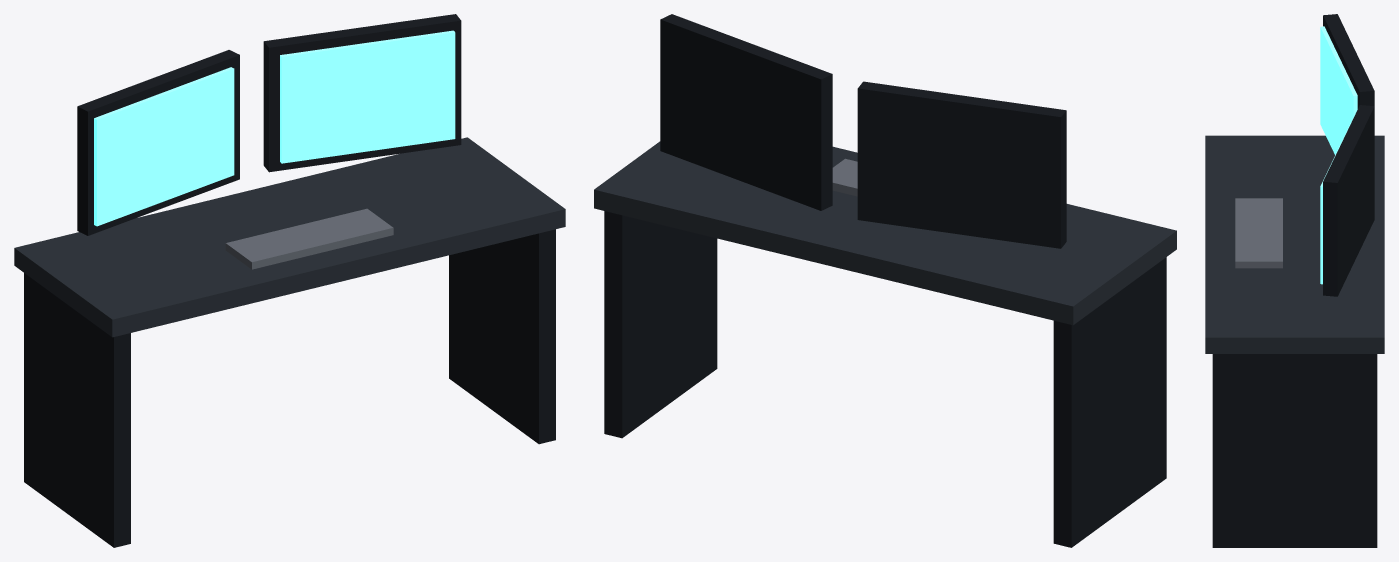
The model's file is f_devpc.glb.
3 renders of one model, left to right at view 1: azimuth 30°, elevation 25°; view 2: azimuth 150°, elevation 25°; view 3: azimuth 270°, elevation 25°, orthographic. The views are drawn at different scales.
Parts seen in each view (by area): view 1: devpc; view 2: devpc; view 3: devpc.
Boxes of the visible parts, x1,y1,x2,y2 form: devpc: (14,14,565,547); devpc: (594,14,1176,547); devpc: (1205,14,1384,547).
Bounding box in the file's own units: 1.6 × 1.29 × 0.6.
